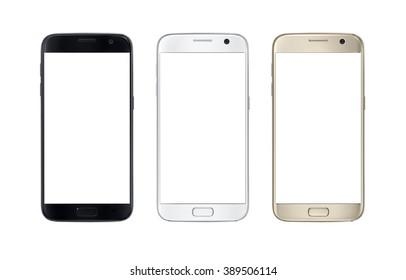mobile: (39, 34, 133, 222), (272, 33, 365, 222), (157, 33, 249, 222)
